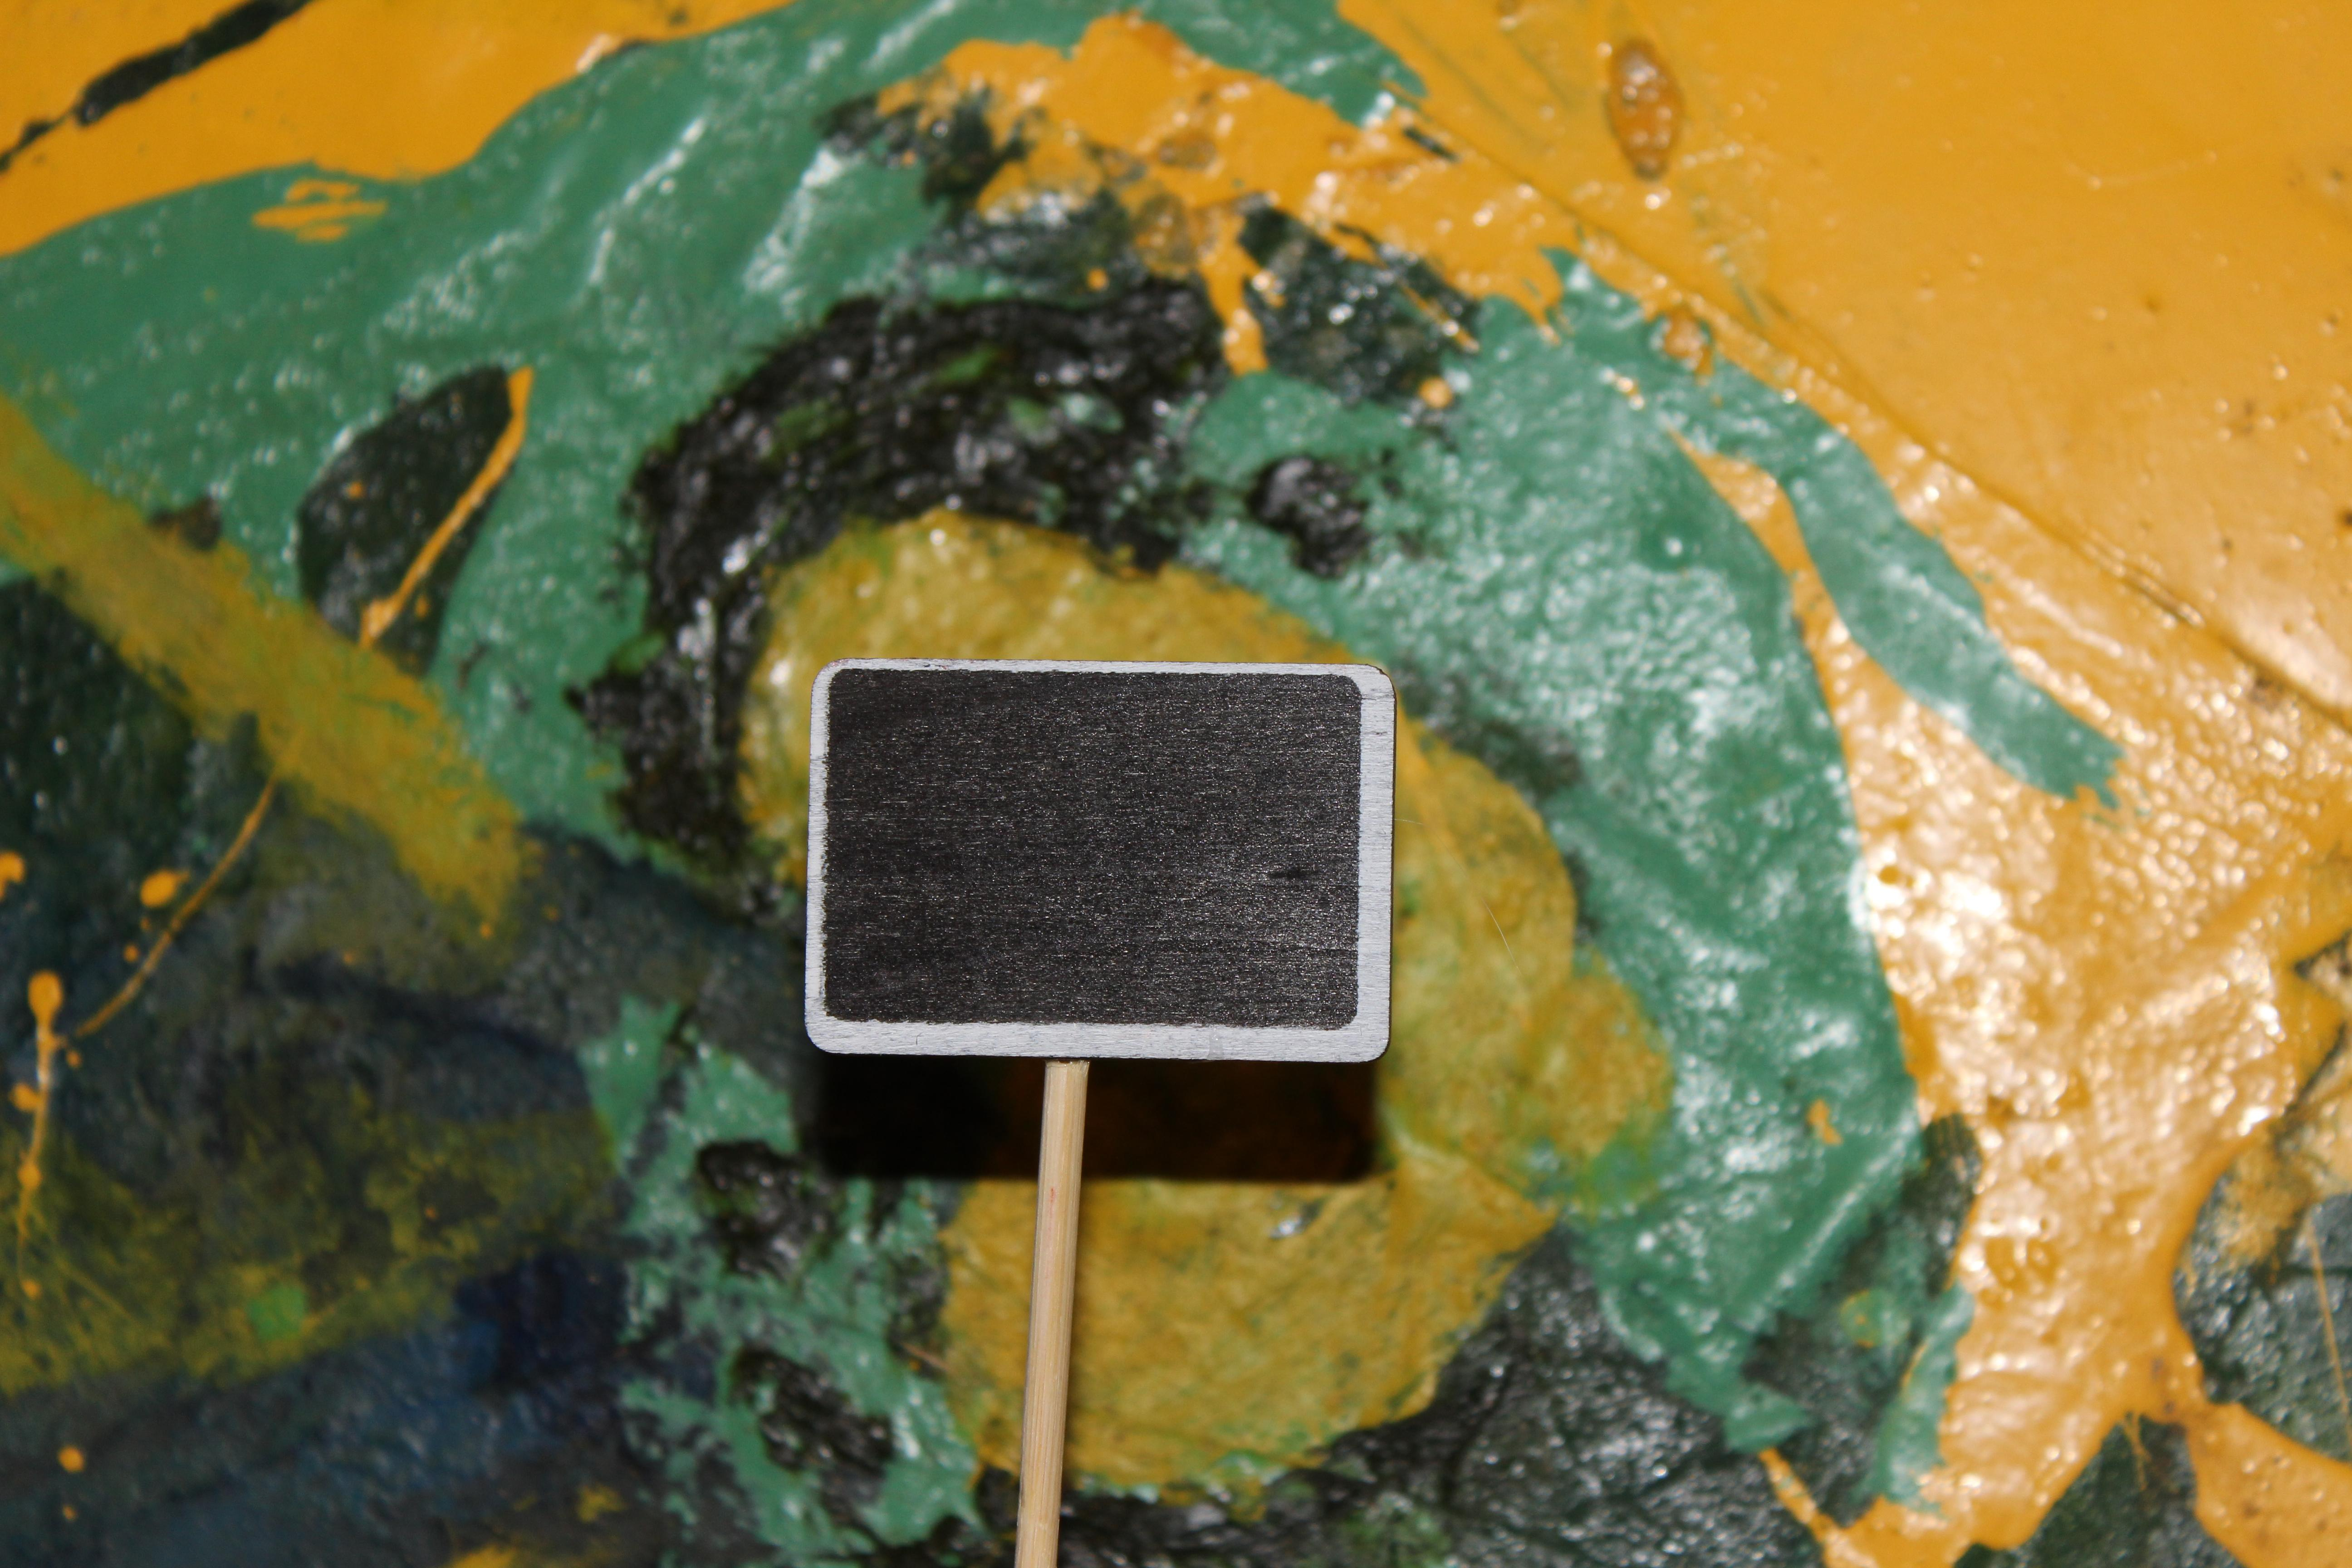sign: (753, 614, 1438, 1568)
